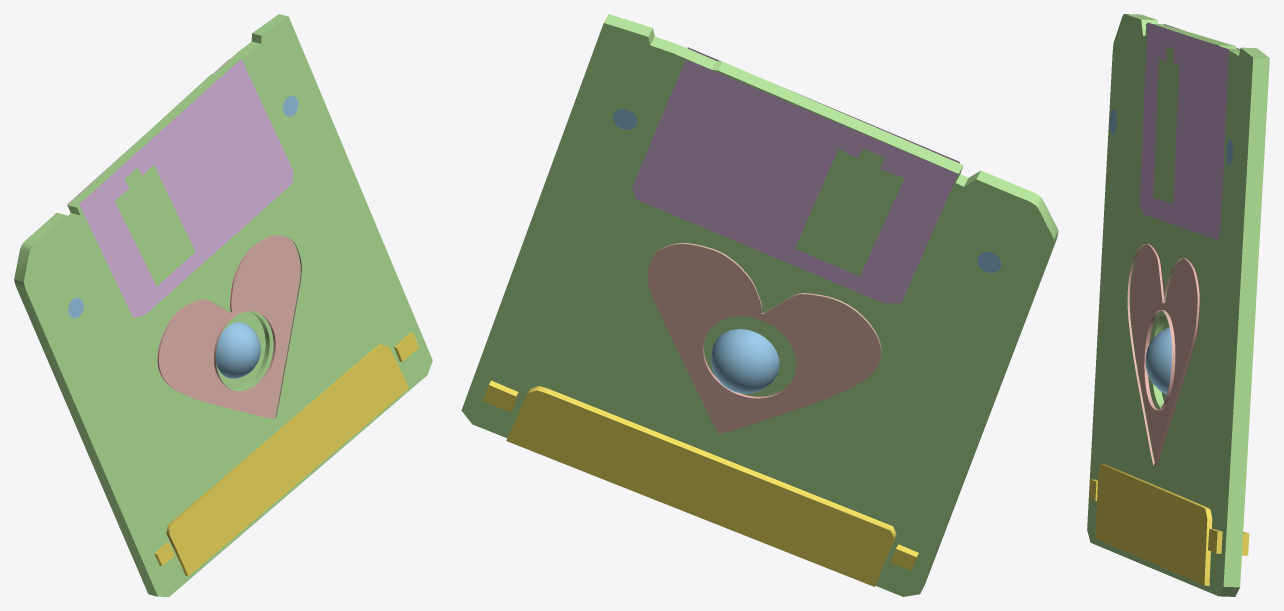
File: floppygl.gltf
3 renders of one model, left to right at view 1: azimuth 30°, elevation 25°; view 2: azimuth 150°, elevation 25°; view 3: azimuth 270°, elevation 25°, orthographic. The views are drawn at different scales.
Parts seen in each view (by area): view 1: disk, top, Cap 1, heart-circle, Sphere, bottom; view 2: disk, top, Cap 2, heart-circle, Sphere, bottom; view 3: disk, top, Cap 1, heart-circle, Sphere, bottom.
Part boxes in pixels (x1=…): disk: x1=14, y1=14, x2=432, y2=596; top: x1=79, y1=59, x2=293, y2=317; Cap 1: x1=157, y1=333, x2=419, y2=576; heart-circle: x1=157, y1=235, x2=301, y2=418; Sphere: x1=216, y1=322, x2=260, y2=378; bottom: x1=154, y1=332, x2=412, y2=576; disk: x1=461, y1=14, x2=1058, y2=596; top: x1=632, y1=59, x2=957, y2=303; Cap 2: x1=483, y1=385, x2=916, y2=586; heart-circle: x1=647, y1=243, x2=881, y2=433; Sphere: x1=711, y1=329, x2=779, y2=393; bottom: x1=489, y1=380, x2=918, y2=585; disk: x1=1087, y1=14, x2=1269, y2=596; top: x1=1139, y1=22, x2=1229, y2=239; Cap 1: x1=1089, y1=464, x2=1217, y2=585; heart-circle: x1=1127, y1=244, x2=1200, y2=465; Sphere: x1=1145, y1=327, x2=1171, y2=394; bottom: x1=1090, y1=464, x2=1222, y2=585.
Bounding box in the file's own units: 748 × 764 × 212.
